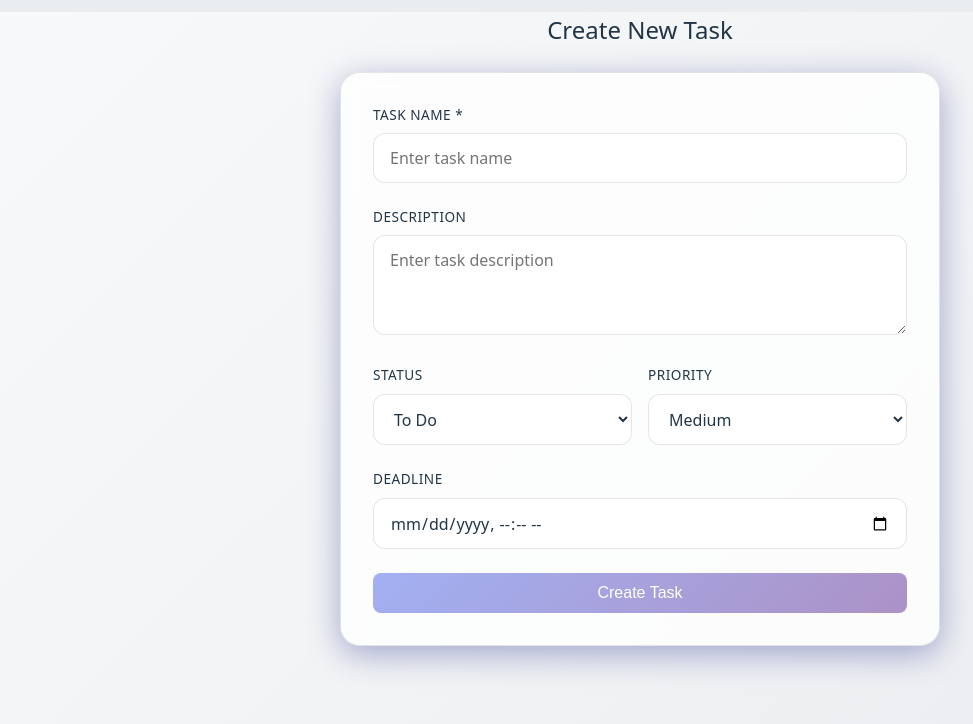
Test: CreateTaskForm › Validation errors › clears error message when field becomes valid
Clear the field labelled "Task Name *" at (640, 158), box left=373, top=133, right=907, bottom=183
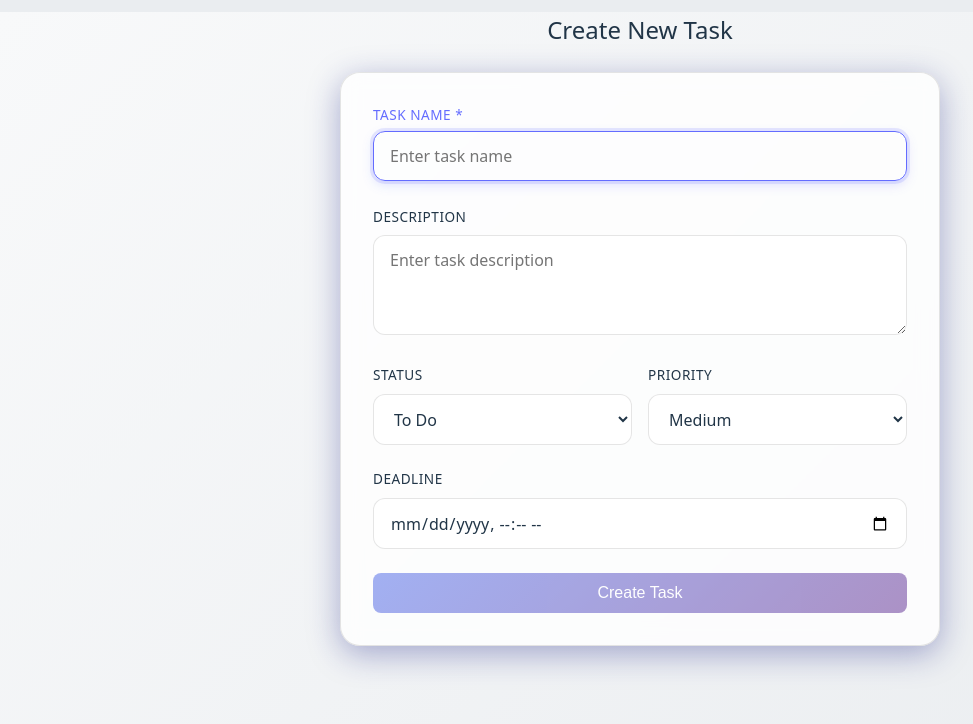
Press Tab
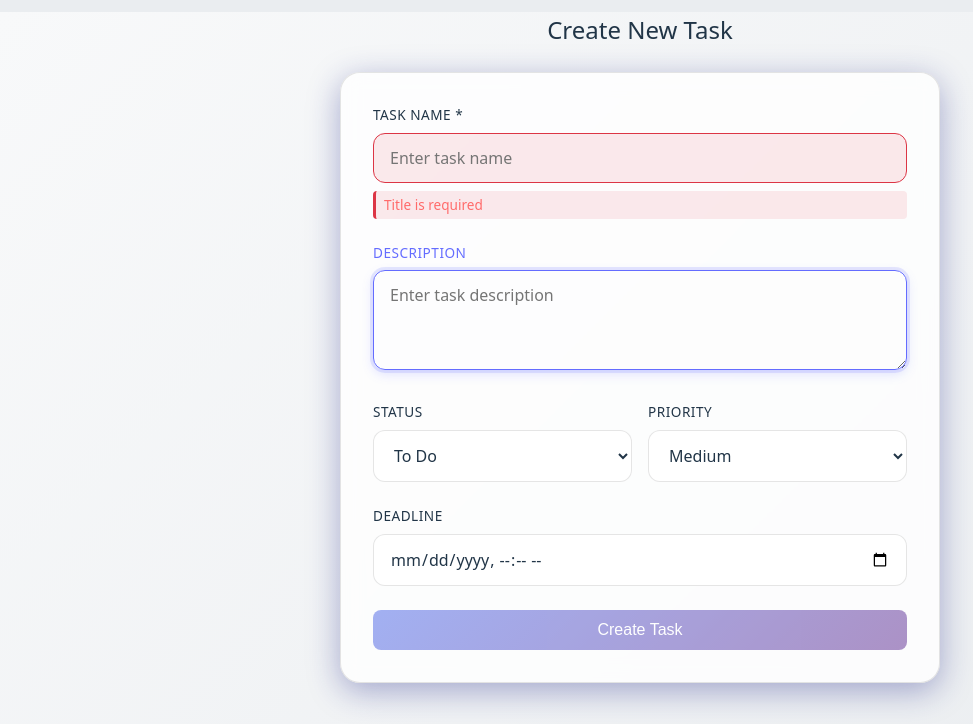
Expected: the text "Title is required" is shown, left=373, top=191, right=907, bottom=219
Type "Valid Title" into the field labelled "Task Name *" at (640, 158), box left=373, top=133, right=907, bottom=183
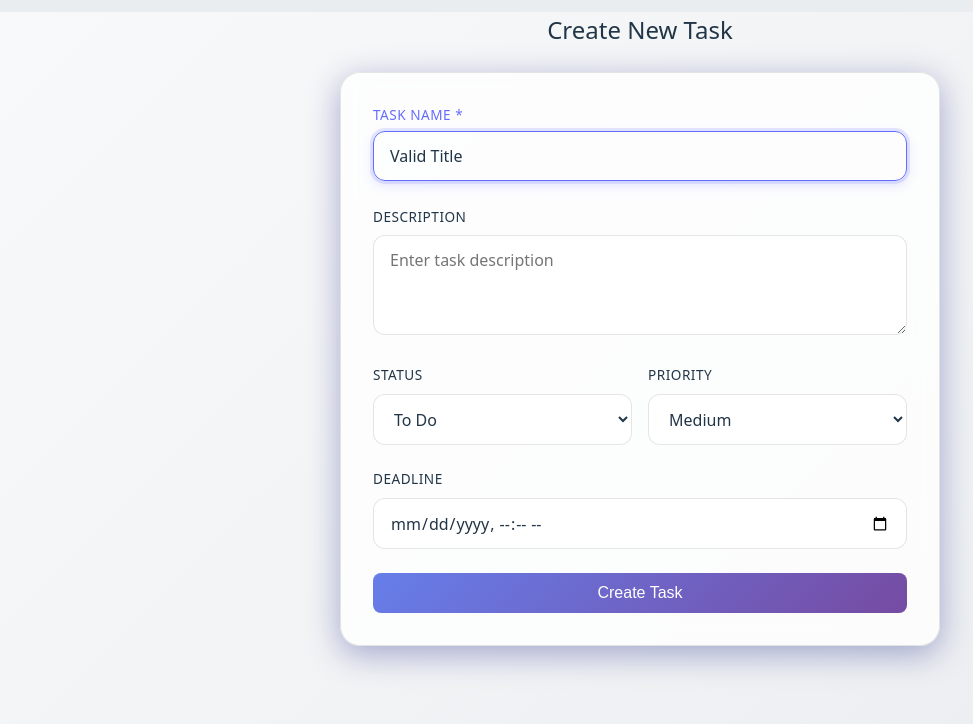
Expected: the text "Title is required" is gone
